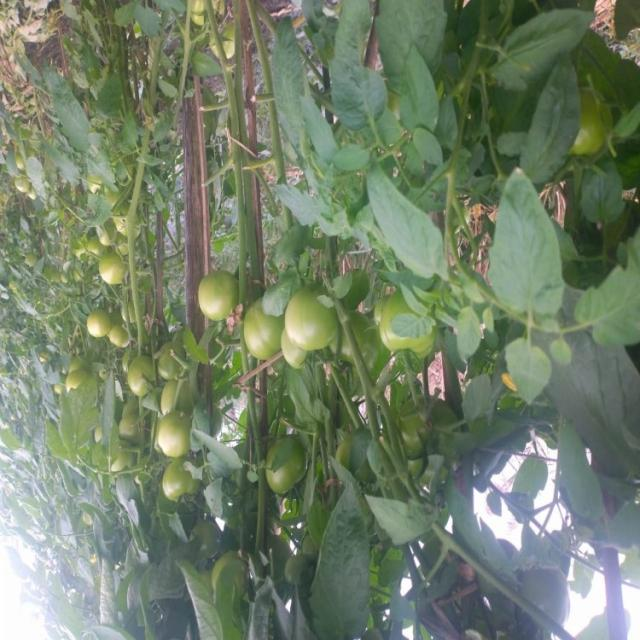tomato: (277, 287, 372, 359), (376, 285, 442, 364), (243, 292, 293, 376), (559, 99, 626, 161), (119, 350, 170, 414), (148, 410, 201, 465), (192, 265, 239, 319), (271, 326, 318, 374), (95, 312, 140, 362), (266, 437, 305, 493), (161, 459, 209, 502), (93, 244, 133, 294), (402, 417, 434, 474), (153, 343, 191, 390), (59, 358, 102, 397), (189, 1, 236, 31), (151, 377, 186, 415), (78, 304, 111, 341), (105, 210, 140, 241), (92, 214, 120, 251), (10, 172, 37, 205), (80, 230, 98, 252)
